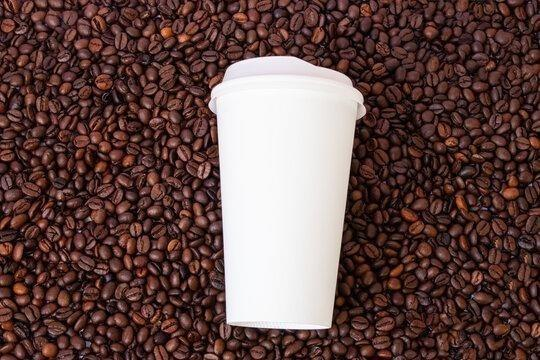cup-disposable: (204, 50, 372, 336)
